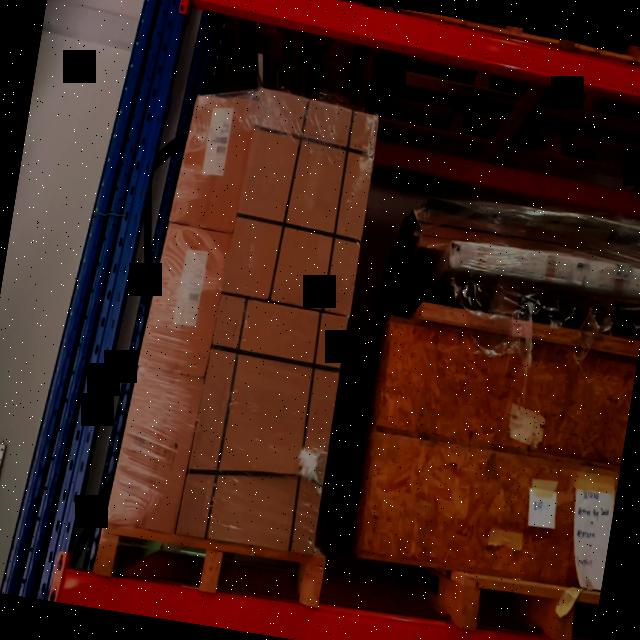box: (182, 296, 346, 556), (225, 98, 377, 310), (115, 368, 198, 532), (146, 223, 226, 376), (177, 96, 250, 230)
